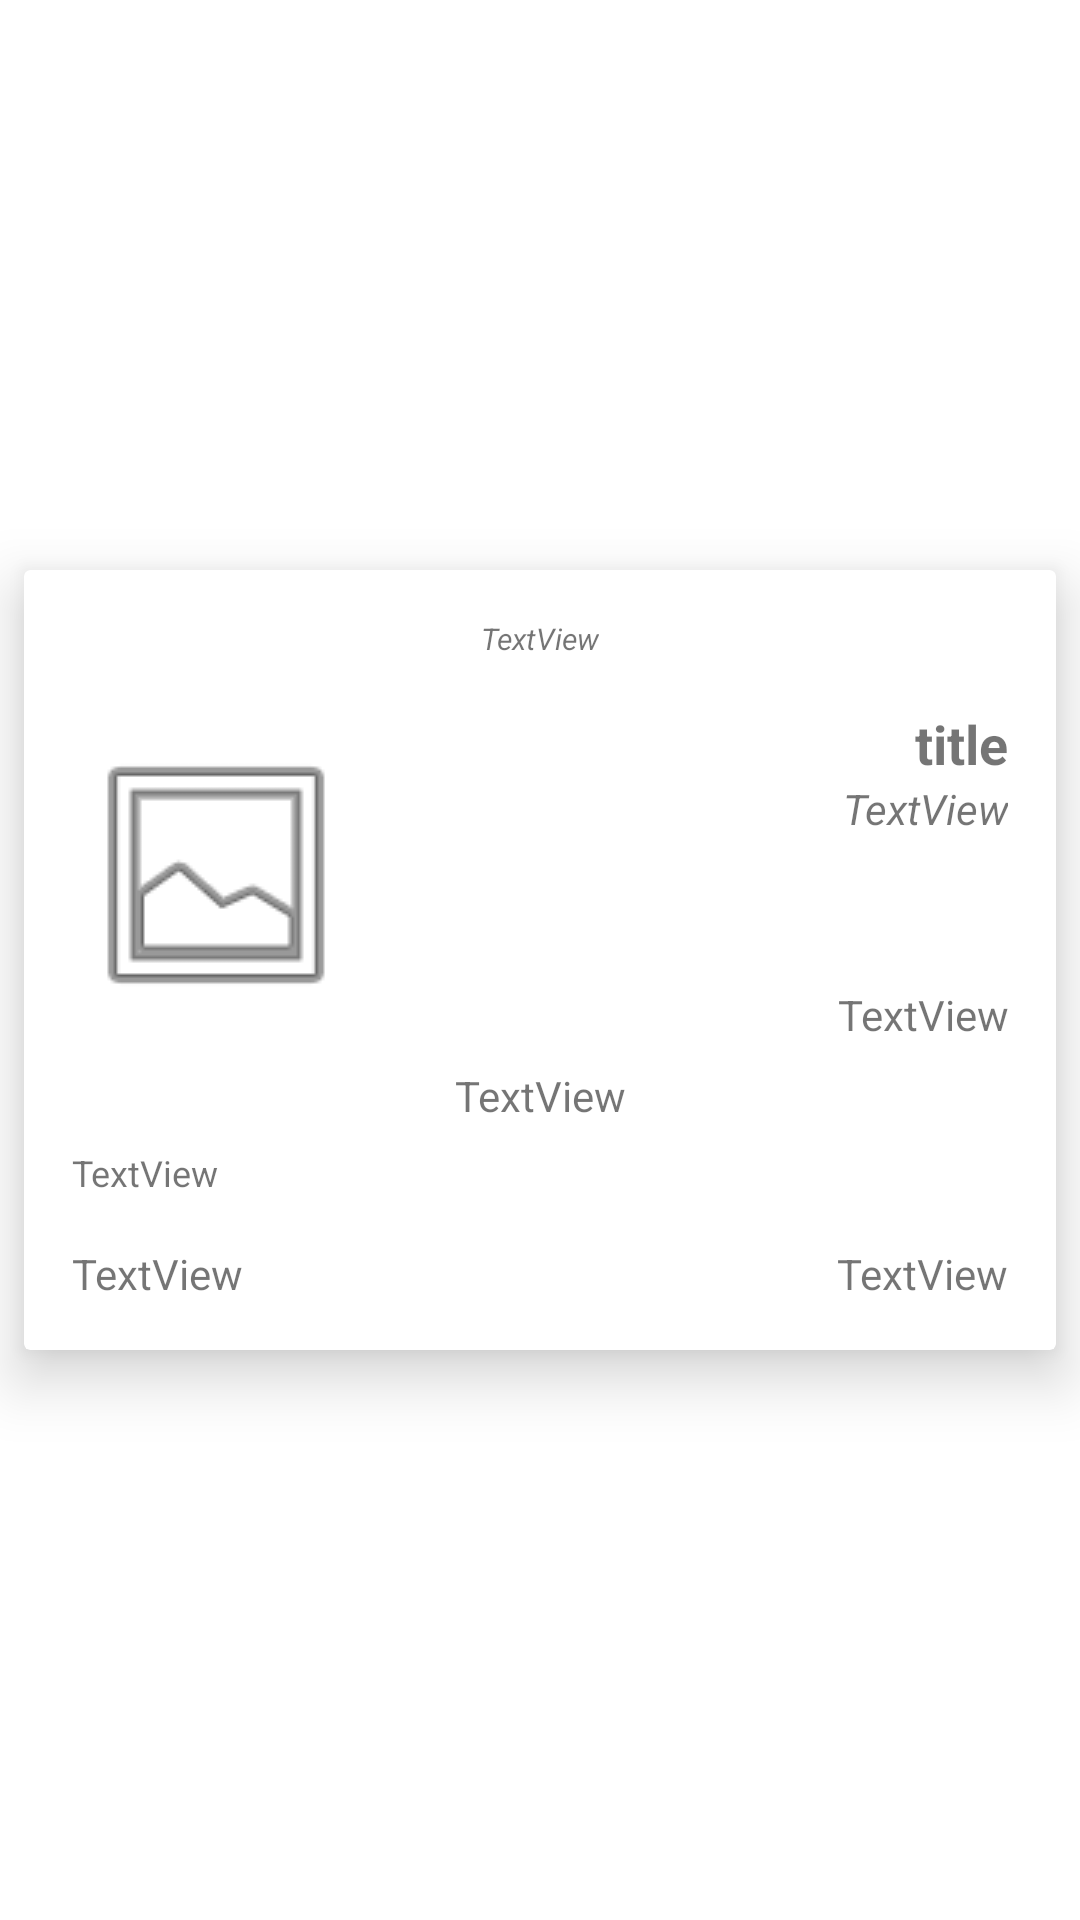

Screen size 1080w x 1920h. Icon name, then its center in pixels as [x,y]:
gallery: [216,875]
